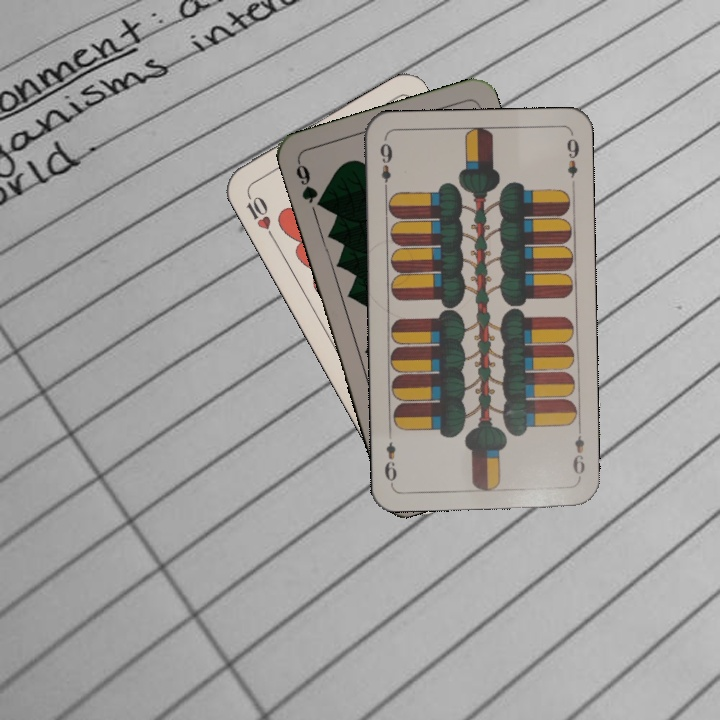E9: (569, 422, 588, 481), (375, 139, 395, 195)
G9: (292, 157, 328, 212)
H10: (242, 186, 277, 241)
